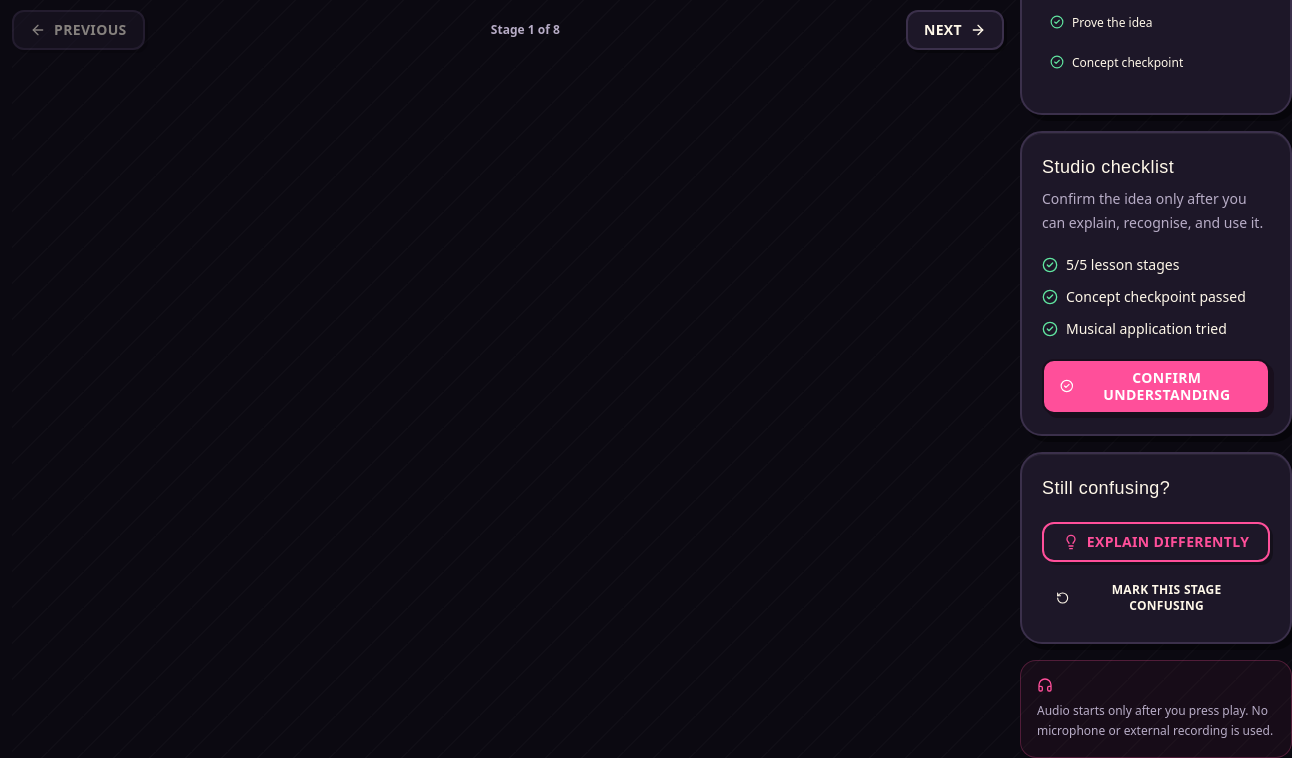
Test: LessonRenderer authored flow › keeps the mastery checklist visible and actionable below desktop width
The width and height of the screenshot is (1292, 758).
(page scrolled)
Click the button "Confirm understanding": [1156, 386] box [1042,358,1270,414]
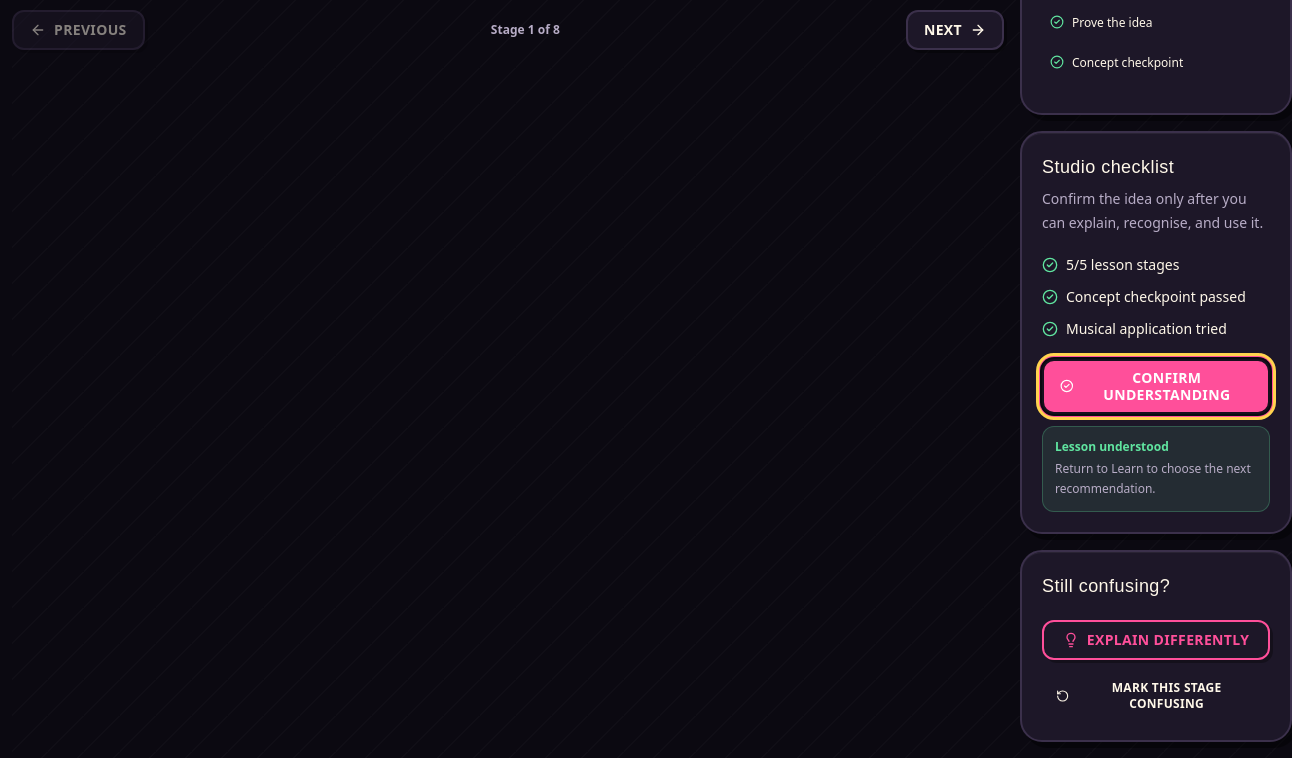
Now the text "Lesson understood" is shown, box [1055,438,1169,454]
